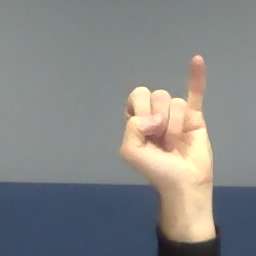I: (114, 53, 220, 182)
